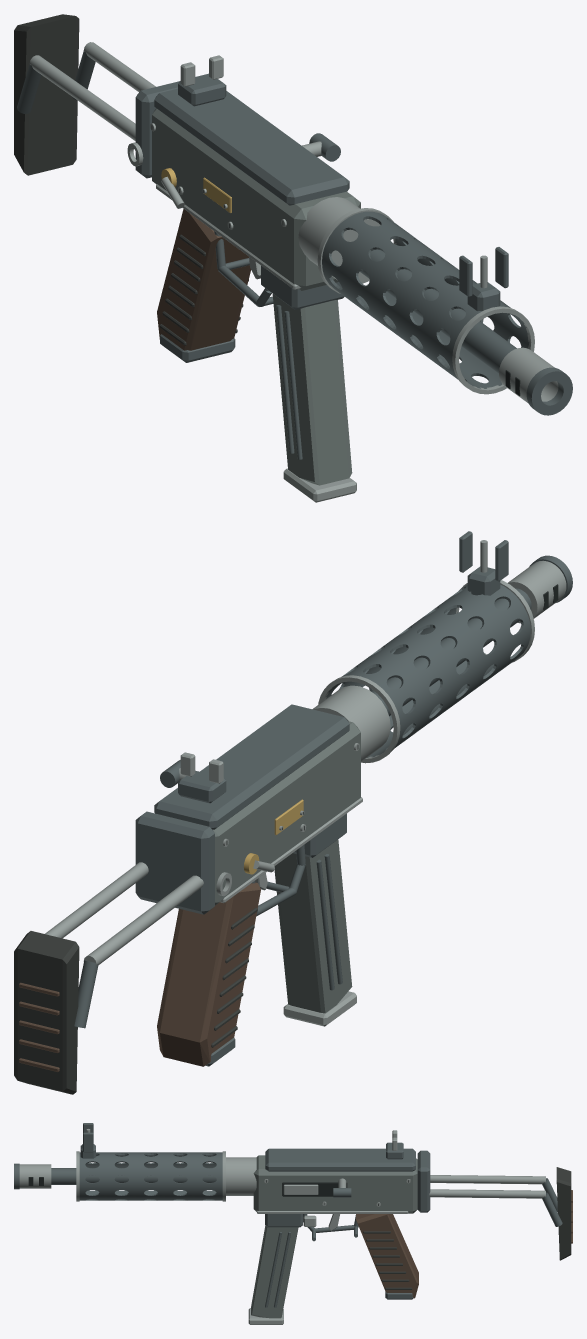
Rendered from smg.glb.
3 views of the same model, one above another, from view 1: azimuth 30°, elevation 25°; view 2: azimuth 150°, elevation 25°; view 3: azimuth 270°, elevation 25° (orthographic). The views are drawn at different scales.
Visible parts, largest first — view 1: Perforated heat shield, Receiver, Magazine, Receiver top cover, Stock butt plate, Pistol grip, Stock rails, Barrel collar, Barrel, Muzzle brake, Magazine pressed ribs, Rear cap (+14 smaller); view 2: Perforated heat shield, Pistol grip, Receiver, Receiver top cover, Stock butt plate, Magazine, Rear cap, Stock rails, Barrel collar, Muzzle brake, Magazine pressed ribs, Barrel (+11 smaller); view 3: Perforated heat shield, Receiver, Receiver top cover, Pistol grip, Magazine, Stock rails, Stock butt plate, Barrel collar, Barrel, Rear cap, Muzzle brake, Grip ribs (+10 smaller).
Boxes of the visible parts, x1=… form: Perforated heat shield: x1=322, y1=211, x2=529, y2=388; Receiver: x1=152, y1=108, x2=360, y2=290; Magazine: x1=272, y1=294, x2=352, y2=485; Receiver top cover: x1=154, y1=88, x2=349, y2=205; Stock butt plate: x1=14, y1=14, x2=79, y2=175; Pistol grip: x1=157, y1=209, x2=250, y2=350; Stock rails: x1=29, y1=42, x2=155, y2=140; Barrel collar: x1=298, y1=197, x2=380, y2=283; Barrel: x1=359, y1=249, x2=516, y2=373; Muzzle brake: x1=499, y1=347, x2=558, y2=403; Magazine pressed ribs: x1=276, y1=305, x2=302, y2=459; Rear cap: x1=135, y1=81, x2=179, y2=178; Perforated heat shield: x1=326, y1=584, x2=530, y2=757; Pistol grip: x1=157, y1=882, x2=260, y2=1066; Receiver: x1=213, y1=721, x2=360, y2=905; Receiver top cover: x1=154, y1=704, x2=349, y2=829; Stock butt plate: x1=14, y1=931, x2=79, y2=1094; Magazine: x1=274, y1=839, x2=352, y2=1013; Rear cap: x1=135, y1=811, x2=214, y2=914; Stock rails: x1=45, y1=862, x2=203, y2=965; Barrel collar: x1=312, y1=685, x2=390, y2=761; Muzzle brake: x1=508, y1=560, x2=566, y2=623; Magazine pressed ribs: x1=316, y1=854, x2=342, y2=990; Barrel: x1=371, y1=588, x2=531, y2=716; Perforated heat shield: x1=79, y1=1152, x2=222, y2=1200; Receiver: x1=253, y1=1155, x2=417, y2=1213; Receiver top cover: x1=265, y1=1148, x2=415, y2=1171; Pistol grip: x1=356, y1=1214, x2=418, y2=1298; Magazine: x1=251, y1=1225, x2=298, y2=1318; Stock rails: x1=429, y1=1175, x2=545, y2=1198; Stock butt plate: x1=556, y1=1167, x2=571, y2=1260; Barrel collar: x1=226, y1=1157, x2=256, y2=1195; Barrel: x1=51, y1=1168, x2=216, y2=1184; Rear cap: x1=417, y1=1150, x2=430, y2=1212; Muzzle brake: x1=19, y1=1164, x2=51, y2=1188; Grip ribs: x1=363, y1=1231, x2=412, y2=1289.
Bounding box in the file's own units: 0.102 × 0.2615 × 0.6913.
